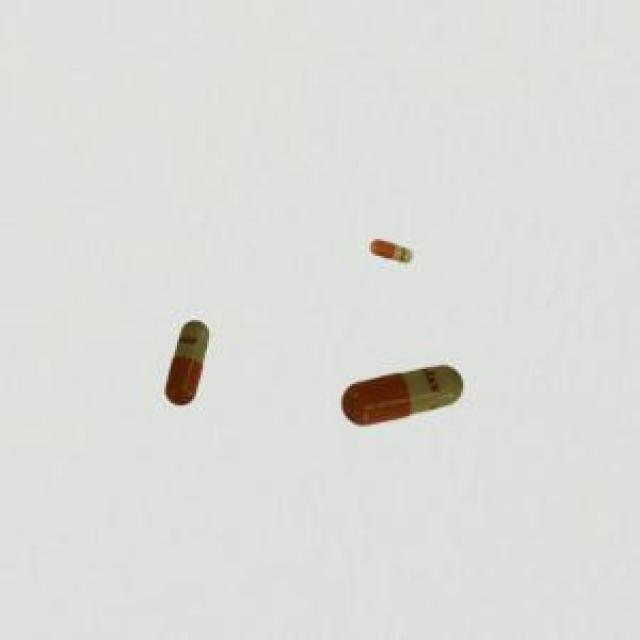Alaxan: (337, 358, 467, 443), (153, 311, 215, 415), (356, 231, 424, 274)
